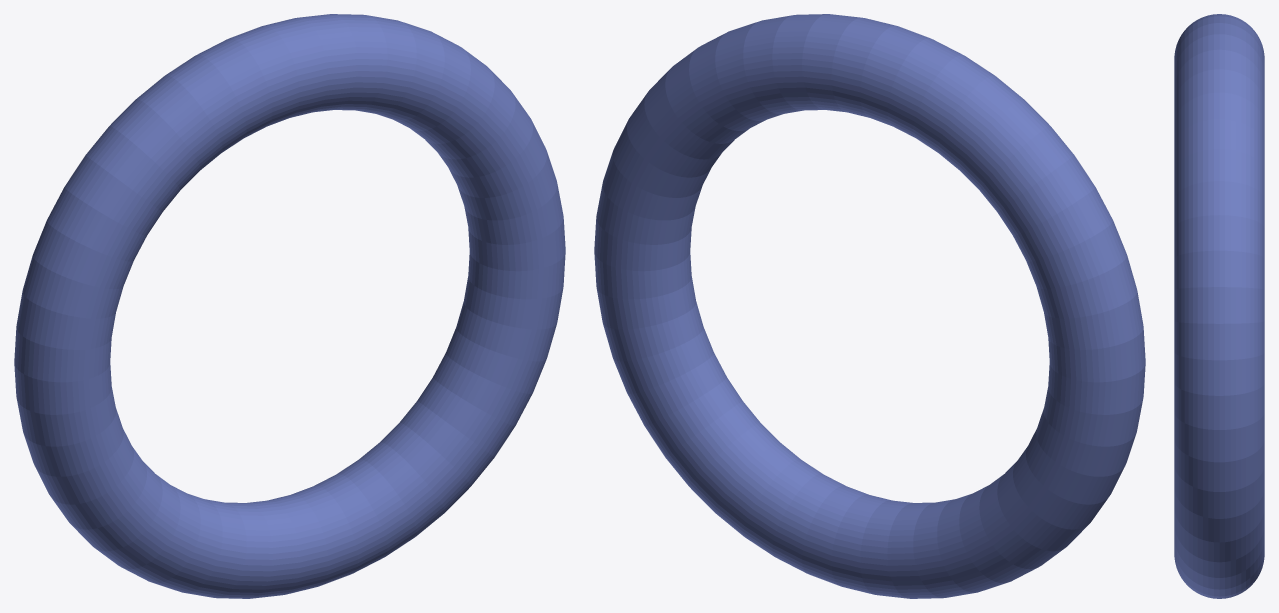
The picture shows the model from 3 angles, left to right: view 1: azimuth 30°, elevation 25°; view 2: azimuth 150°, elevation 25°; view 3: azimuth 270°, elevation 25°; orthographic projection. The views are drawn at different scales.
Parts seen in each view (by area): view 1: world; view 2: world; view 3: world.
Part boxes in pixels (<box>): world: <box>14,14,565,598</box>; world: <box>594,14,1145,598</box>; world: <box>1174,14,1264,598</box>.
Bounding box in the file's own units: 18.13 × 18.1 × 2.79.
